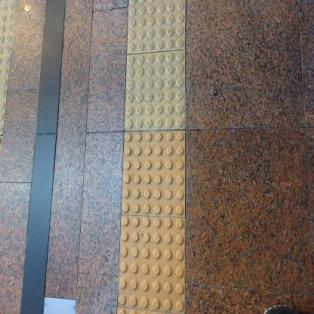Podoctatil: (112, 0, 197, 313)
